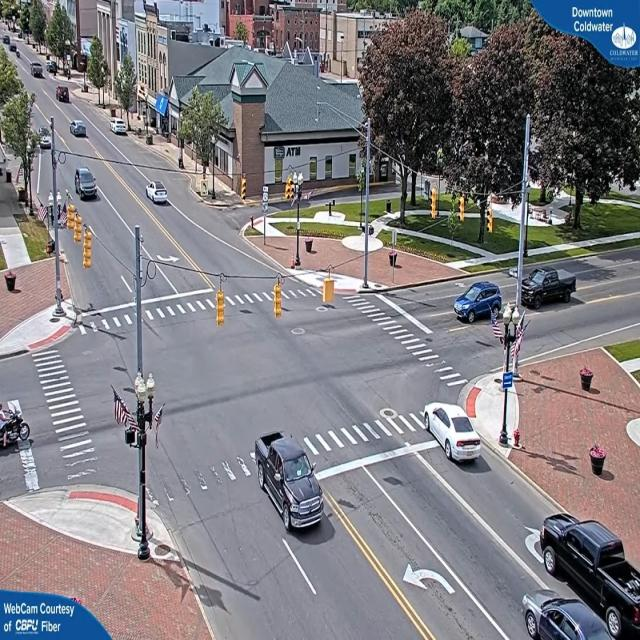car: (538, 510, 640, 595), (252, 435, 324, 535), (521, 591, 622, 640), (423, 404, 483, 464), (520, 268, 576, 310), (453, 282, 501, 323), (74, 168, 98, 202), (147, 182, 169, 205), (112, 120, 128, 135)
motorbike: (0, 403, 30, 449)
